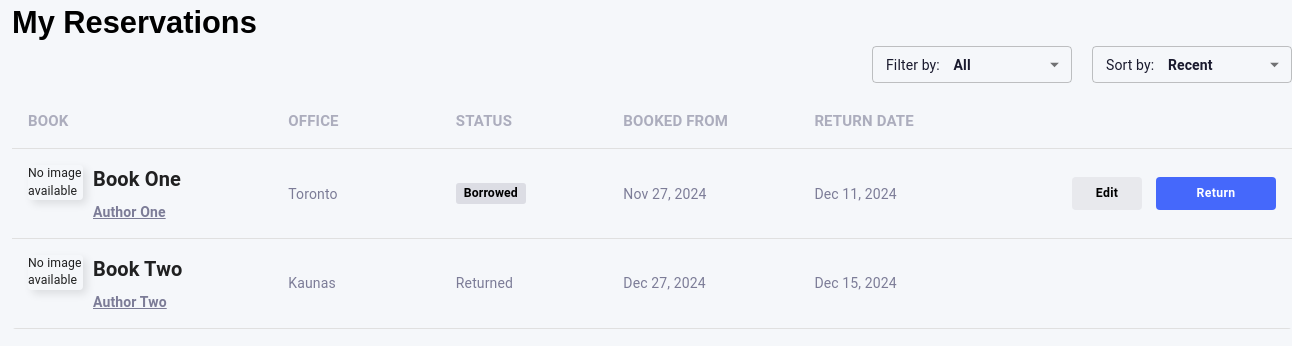
Test: ReservationsView › filters books by status
Expected: the text "Book One" is shown, [93, 165, 181, 194]
Step 1. Press the mouse on the dropdown "Filter by: All" → (928, 65), box [886, 57, 971, 73]
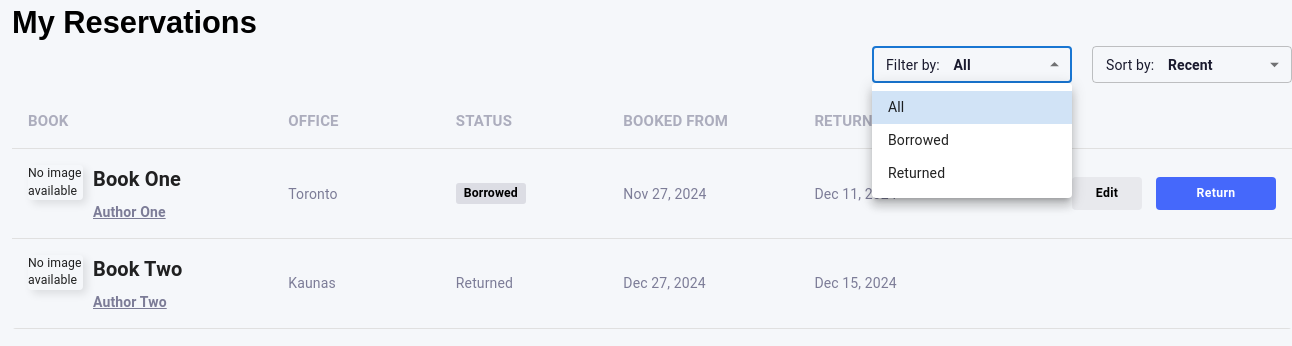
Step 2. Click the option "Returned" → (917, 173), box [888, 165, 945, 181]
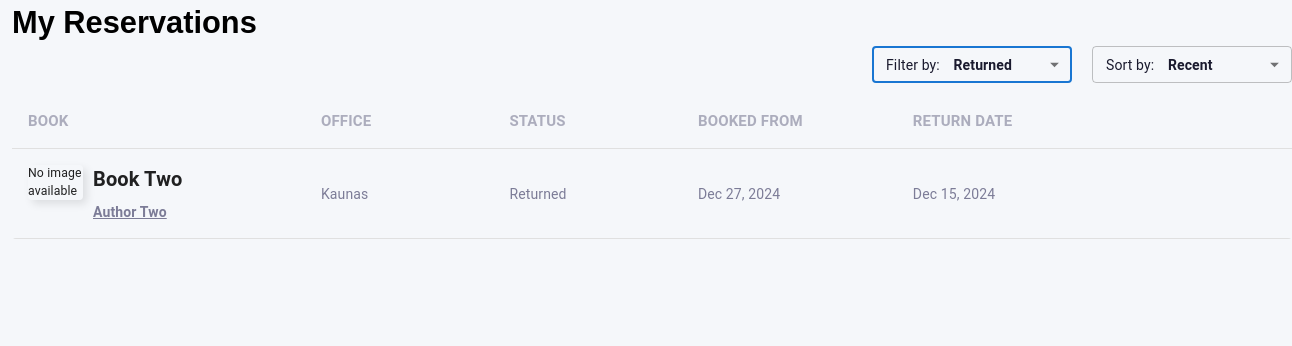
Expected: the text "Book Two" is shown, [93, 165, 182, 194]
Expected: the text "Book One" is gone
